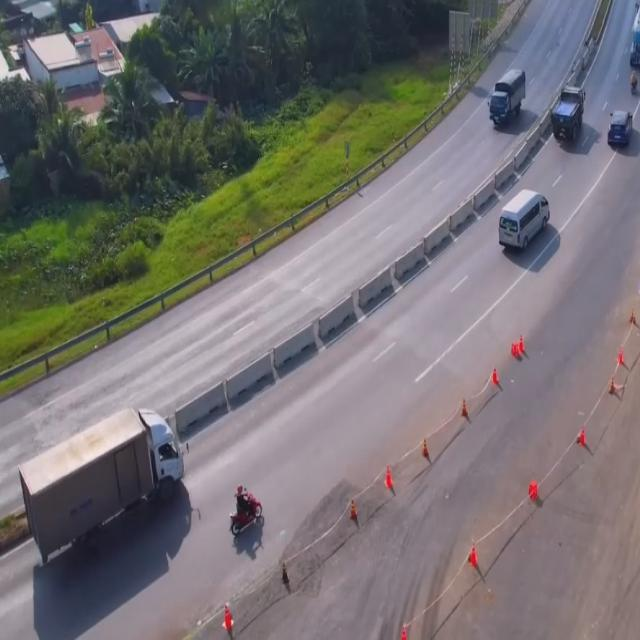car: (497, 188, 551, 255), (608, 107, 632, 150)
motorbike: (231, 487, 261, 536), (629, 69, 638, 94)
truck: (17, 407, 186, 554), (550, 83, 586, 148), (491, 67, 527, 131)
